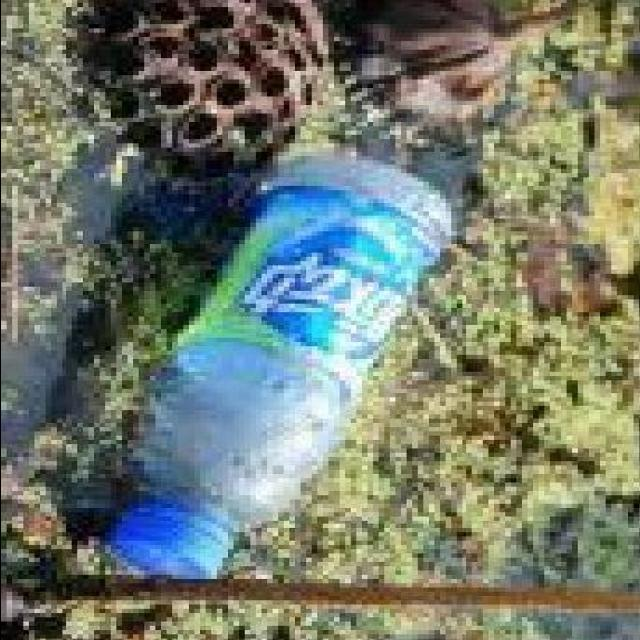-Recyclables - plastic bottle-: (104, 156, 454, 579)
